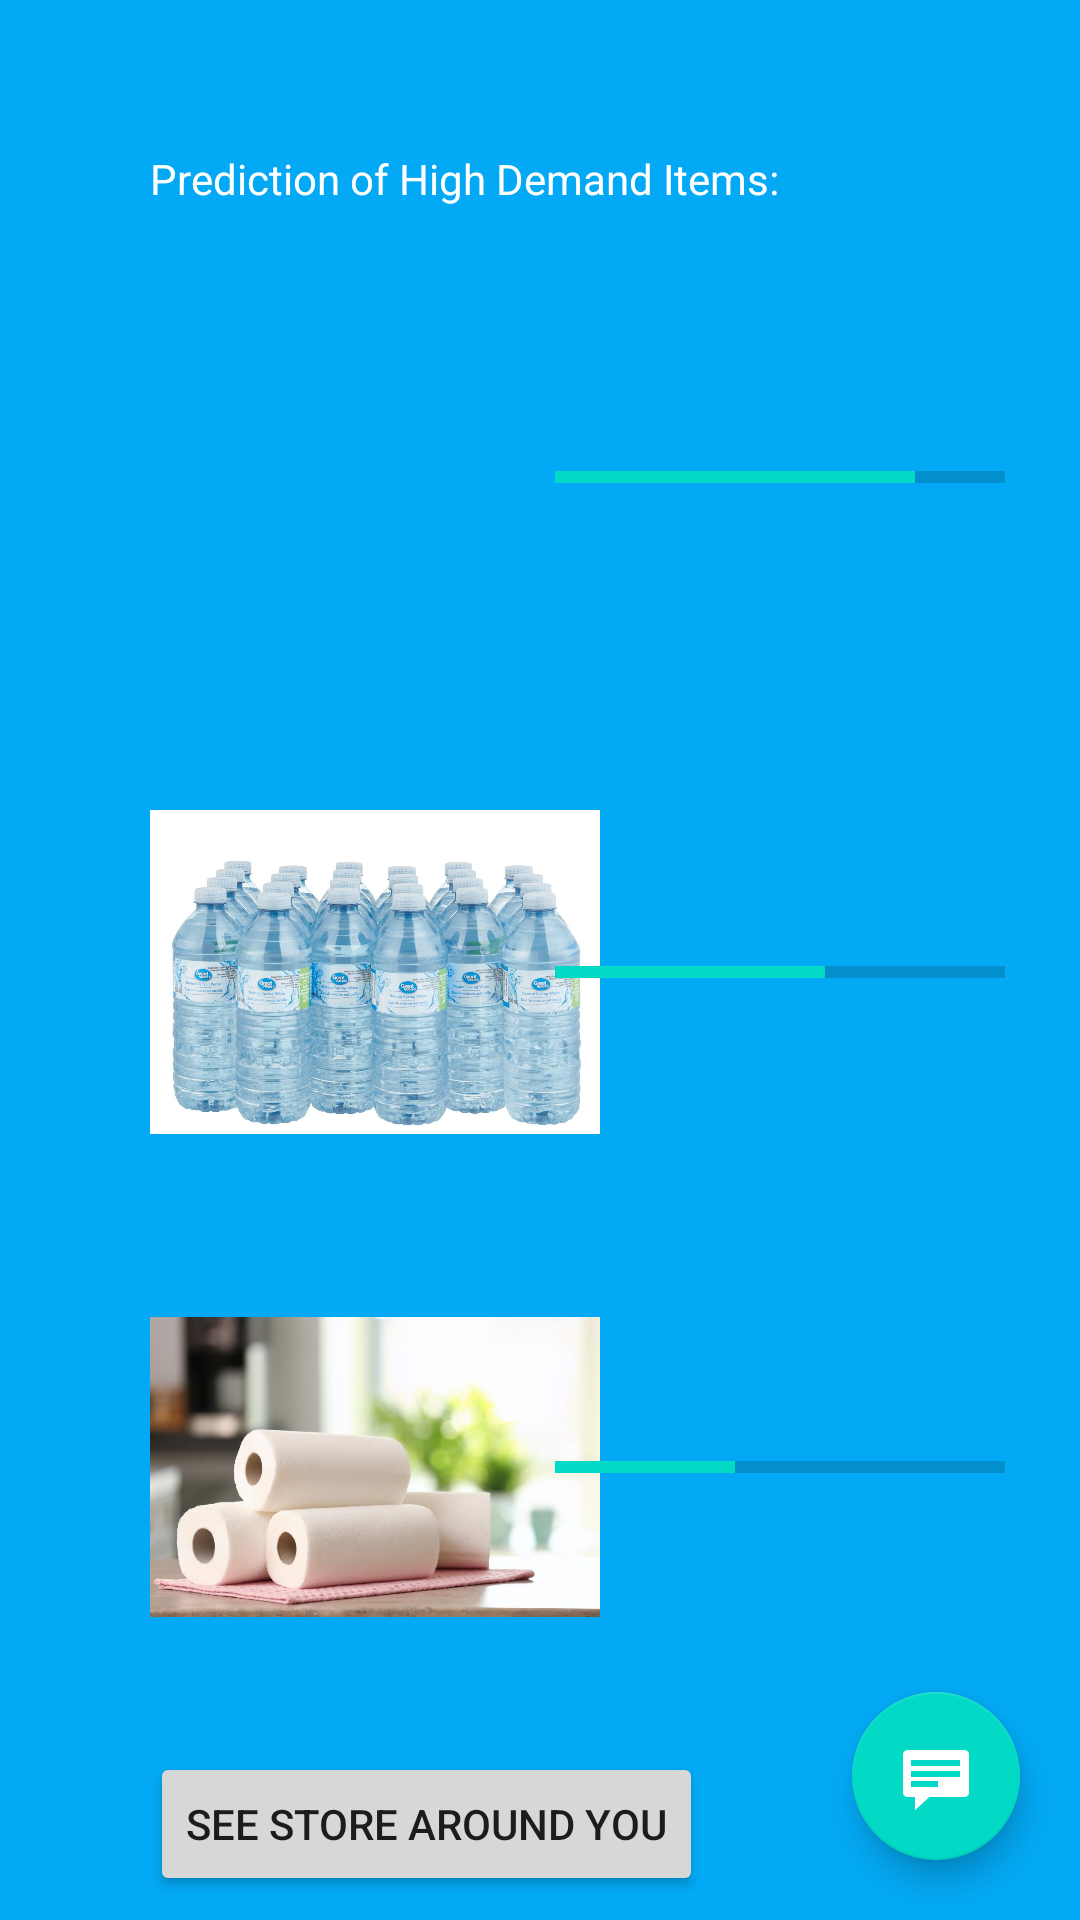

Screen size 1080w x 1920h. Icon name, then its box in pixels as (x1, y1, x2, y2):
chat: (852, 1692, 1020, 1860)
